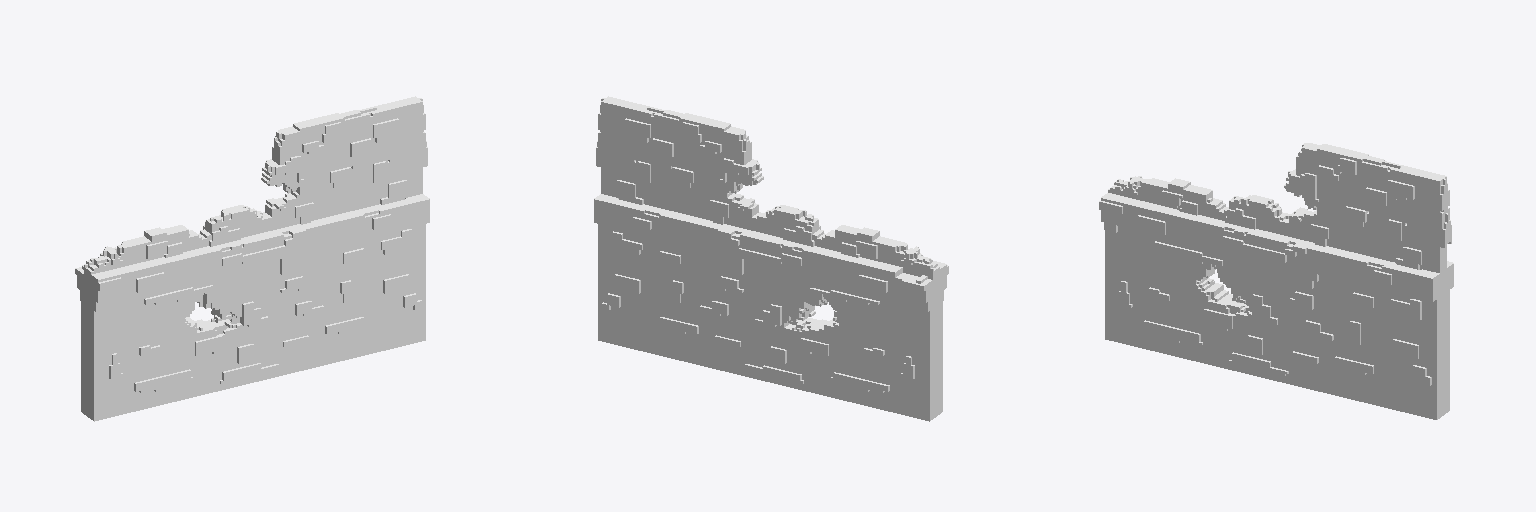
The model's file is forest1.2-10.obj.
The picture shows the model from 3 angles: view 1: azimuth 30°, elevation 25°; view 2: azimuth 150°, elevation 25°; view 3: azimuth 330°, elevation 25°; orthographic projection.
Parts seen in each view (by area): view 1: object 1; view 2: object 1; view 3: object 1.
Part boxes in pixels (x1,y1,x2,y2): object 1: (75, 96, 429, 421); object 1: (594, 96, 948, 421); object 1: (1099, 143, 1453, 419).
Size of the model in its own units: 13.4 by 9.1 by 1.7.